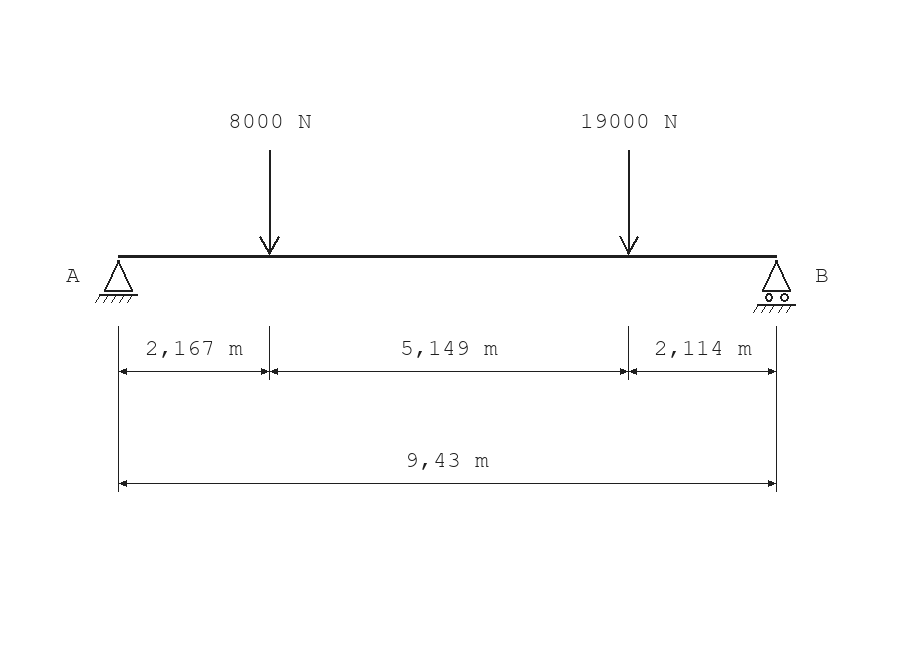pin_support: (95, 260, 138, 303)
point_load: (259, 150, 280, 255), (619, 150, 639, 255)
roller_support: (753, 260, 796, 313)
